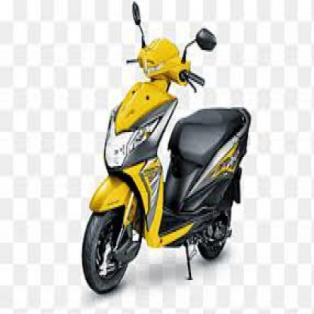Motocicleta: (79, 0, 253, 300)
